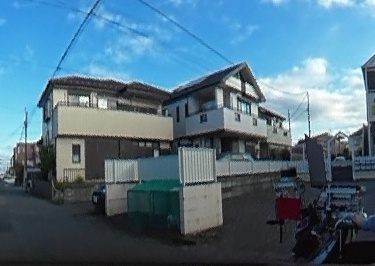person: (328, 96, 375, 264)
